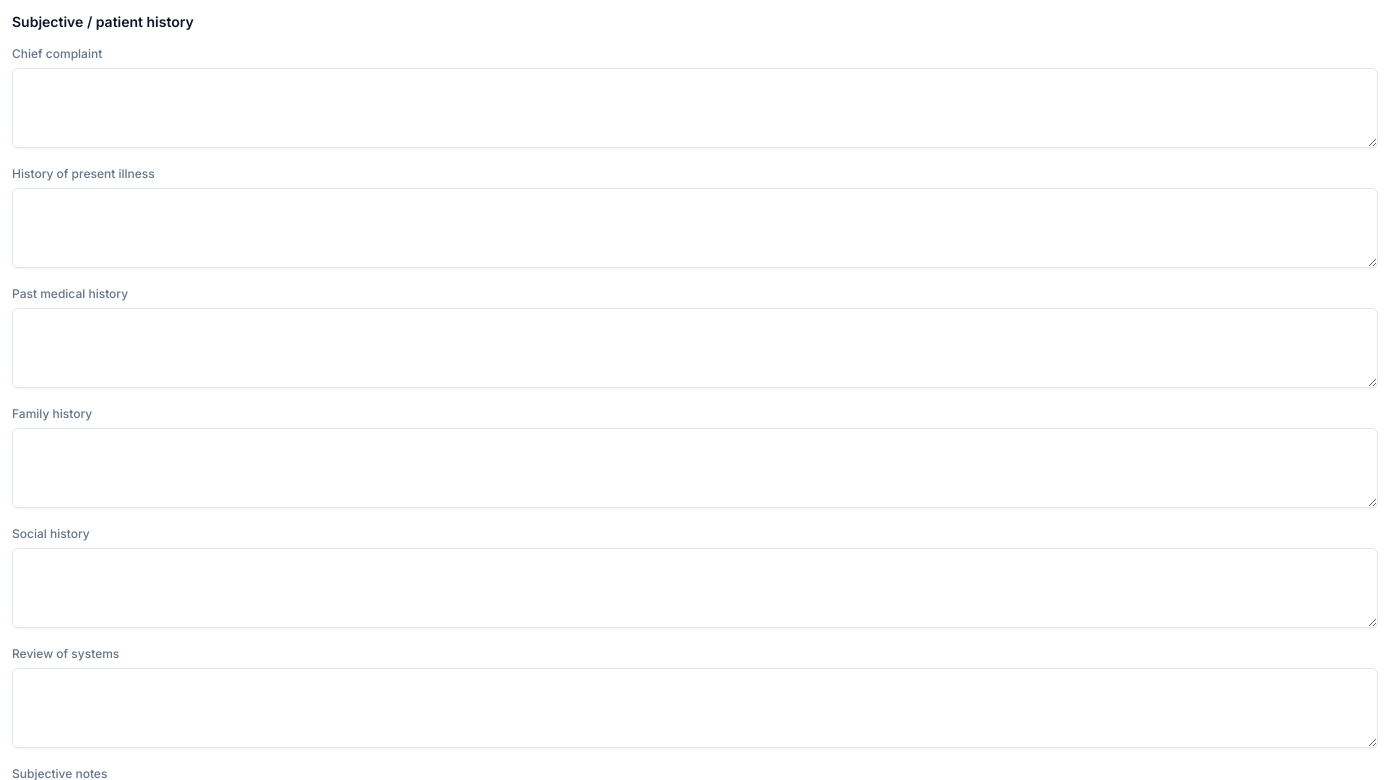
Test: PreQueueVitalsStep (Task #6: pre-queue intake, before the ticket exists) › Chief complaint reuses the Task #2 suggestions (and only that field asks for them); custom text still works
Click the text box named "Chief complaint" at {"x": 695, "y": 108}, box 12,68 -> 1378,148
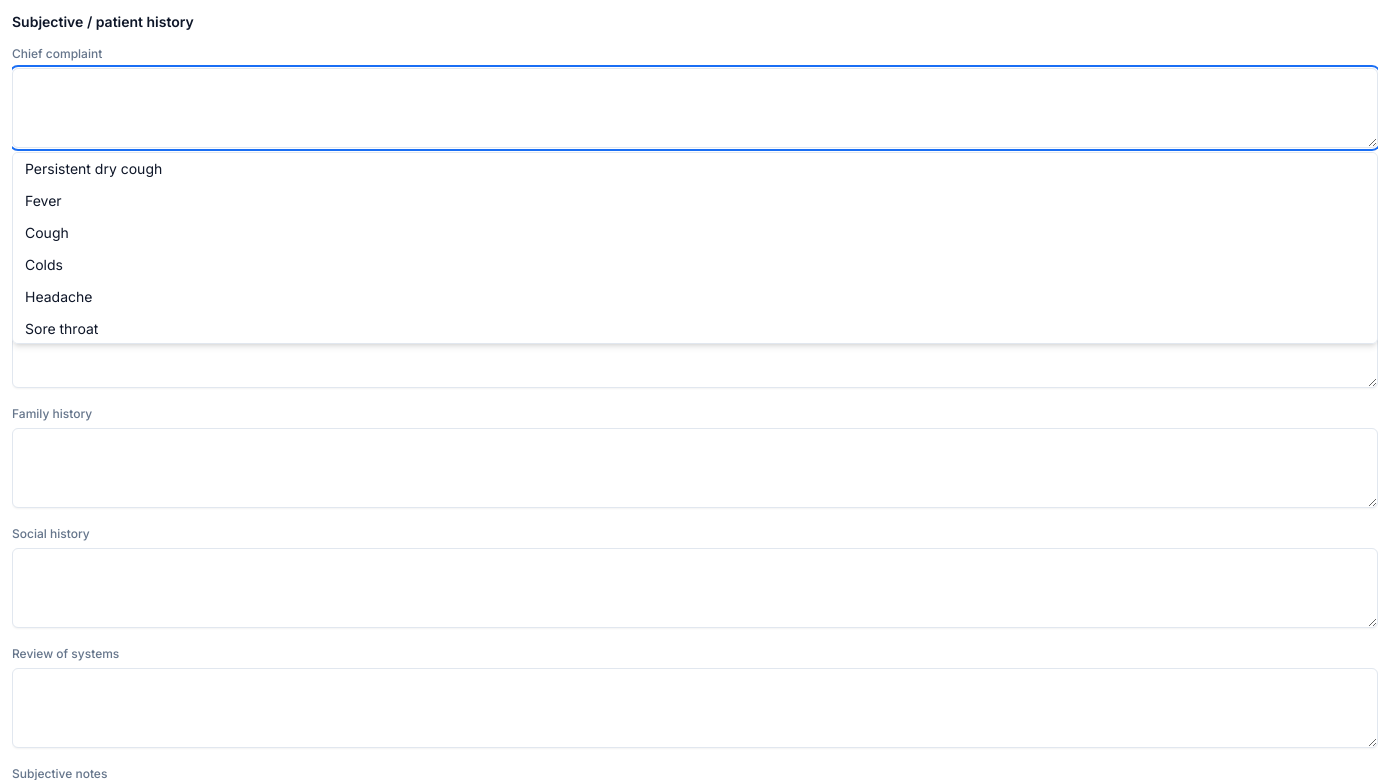
Click the button "Persistent dry cough" at {"x": 94, "y": 168}, box 13,153 -> 1377,185
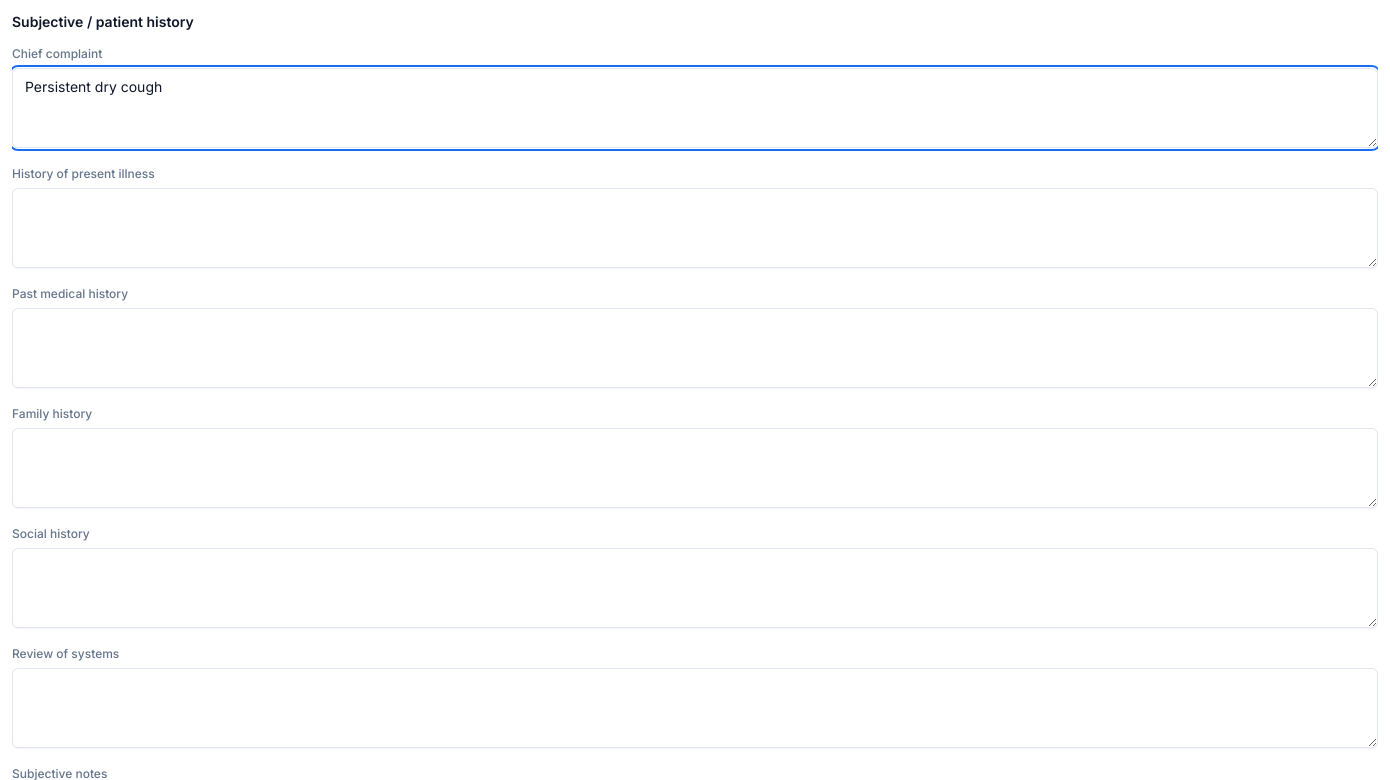
Check: the text box named "Chief complaint" holds "Persistent dry cough"
Type " today" into the text box named "Chief complaint" at {"x": 695, "y": 108}, box 12,68 -> 1378,148
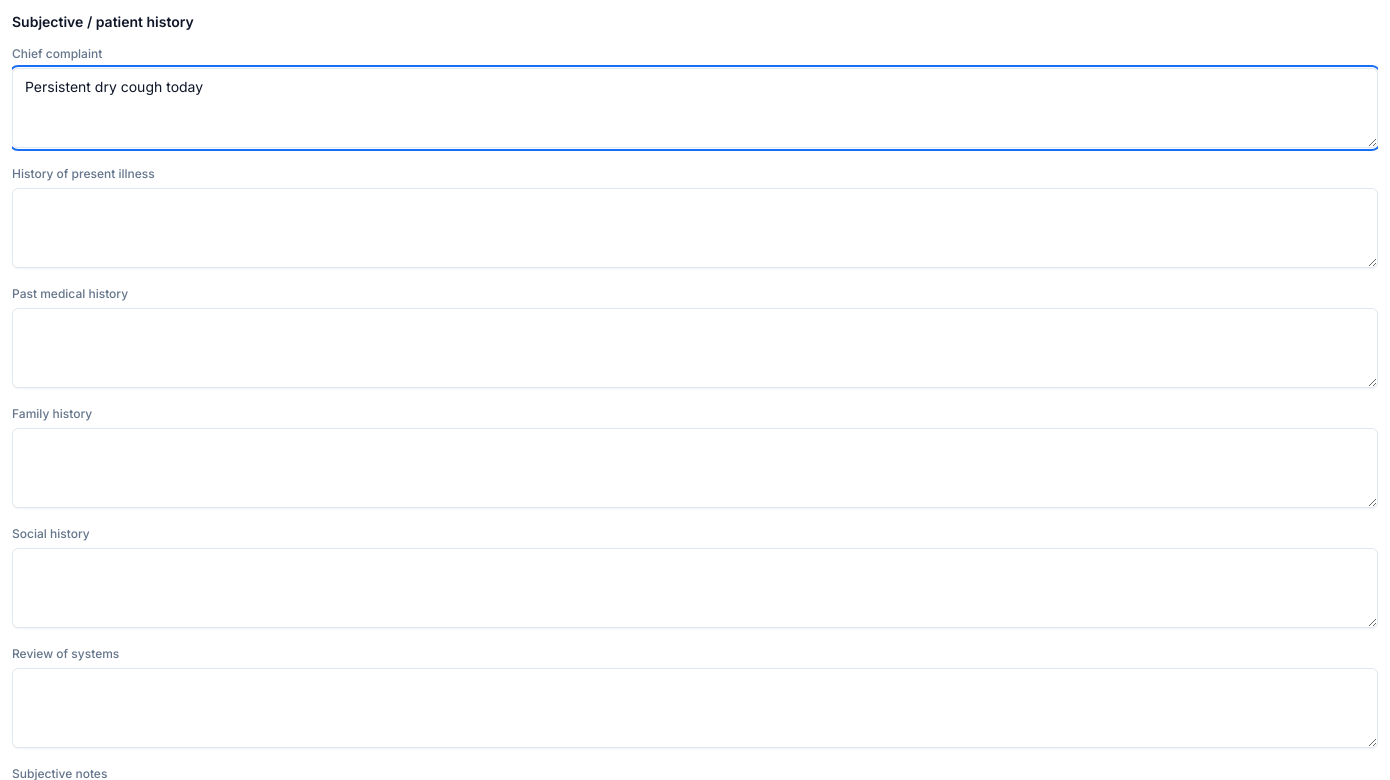
Check: the text box named "Chief complaint" holds "Persistent dry cough today", box 12,68 -> 1378,148
